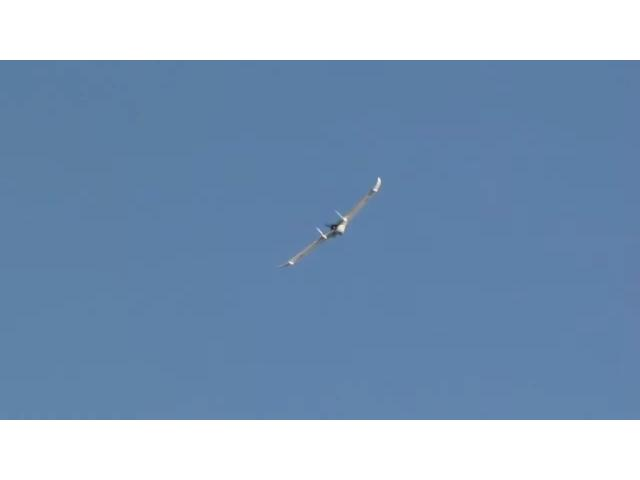Anti-Drone: (276, 179, 380, 268)
